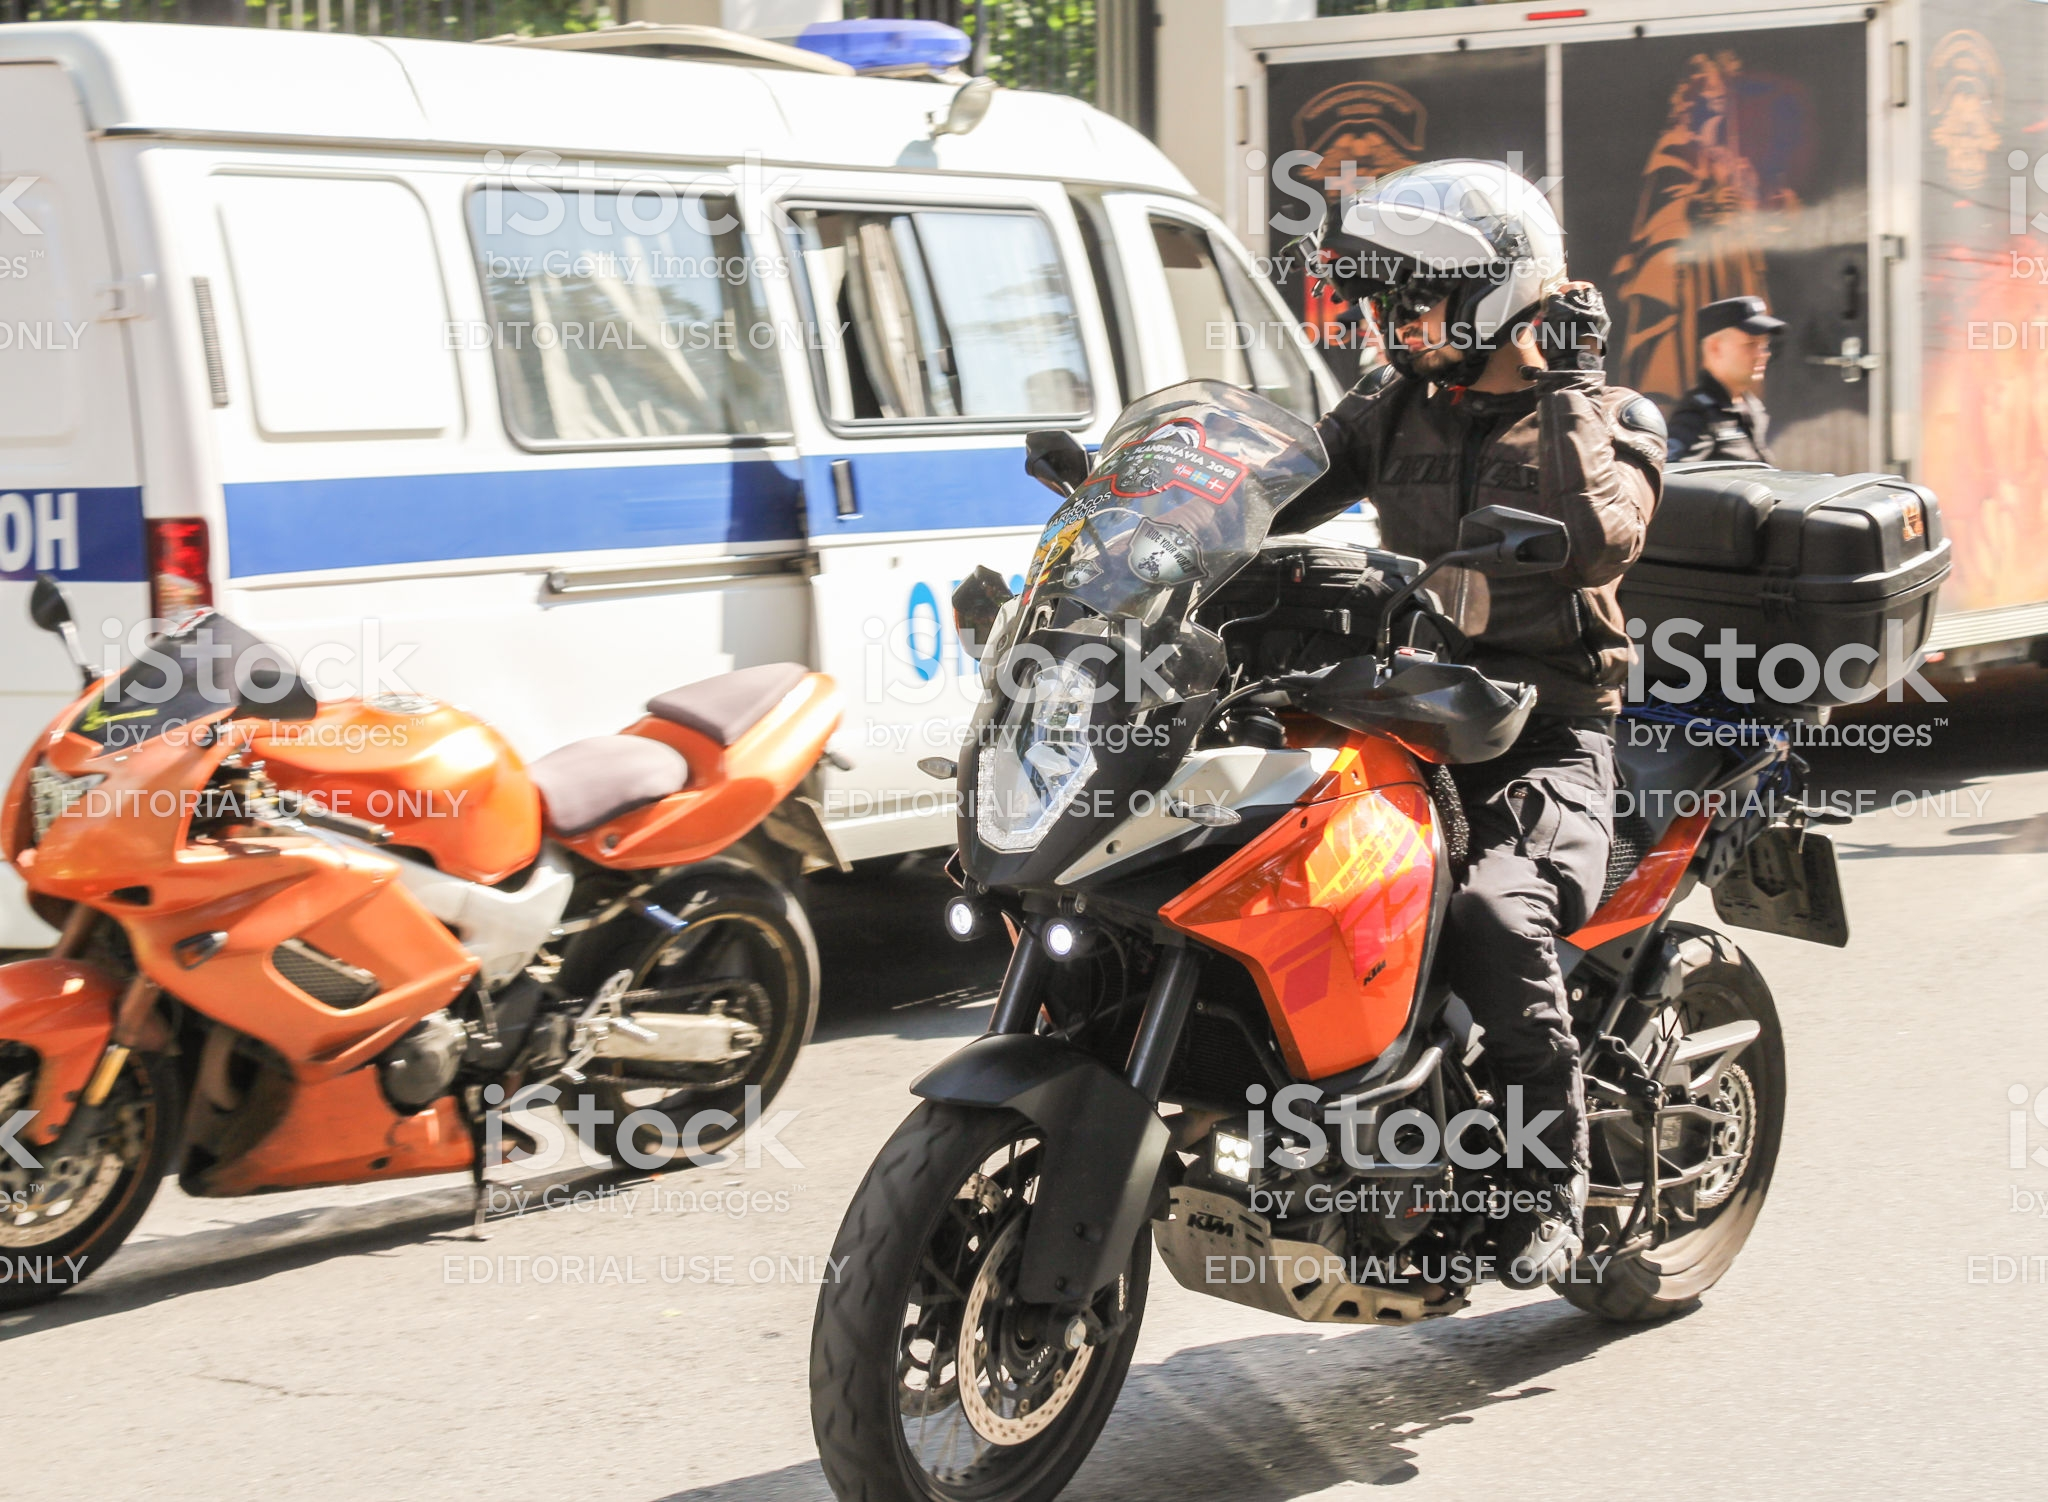helmet: (1347, 134, 1585, 334)
